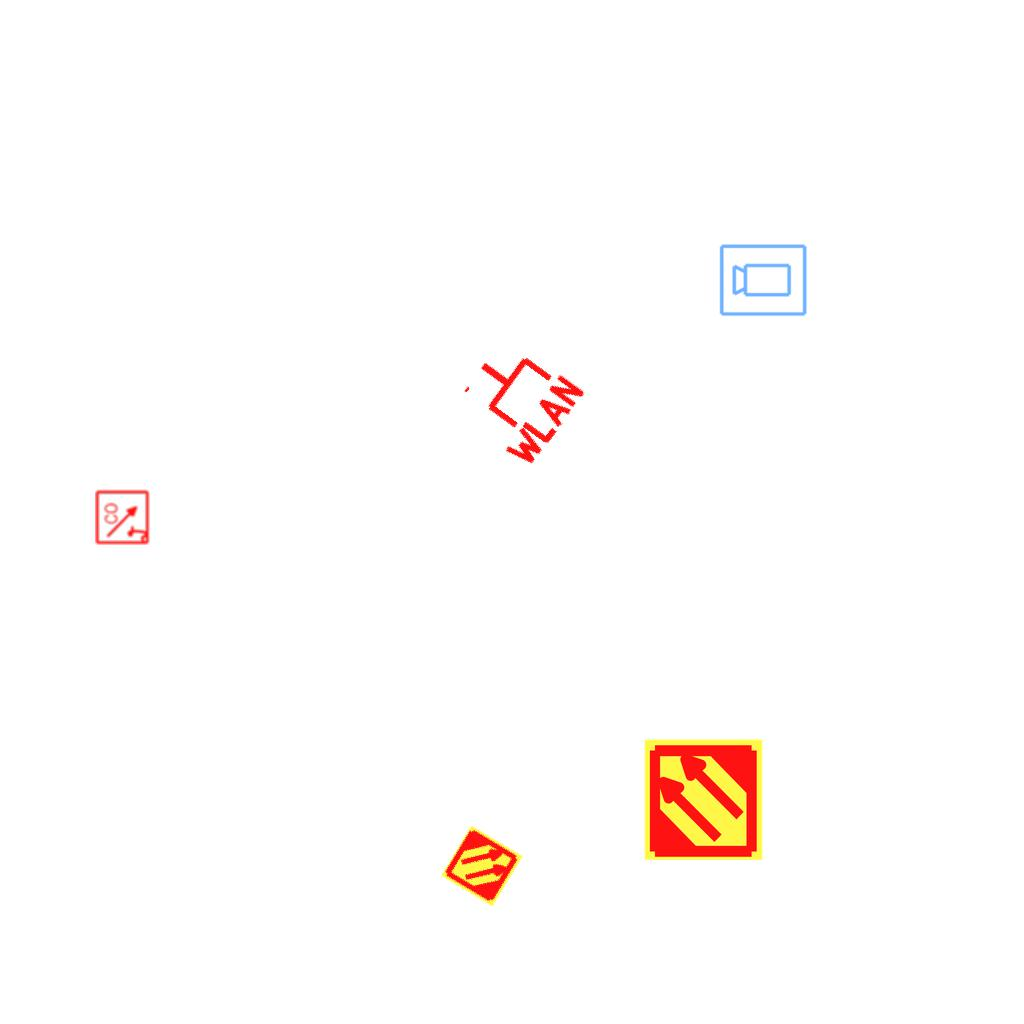ASR_Ansaugrauchmelder: (641, 737, 766, 862), (439, 823, 525, 909)
KFO_Kamera_mit_Festobjektiv: (718, 241, 809, 318)
ROA_Rauchmelder_optisch_mit_Signalgeber_(Sockelsirene): (95, 489, 151, 545)
WLAN: (443, 328, 590, 474)
